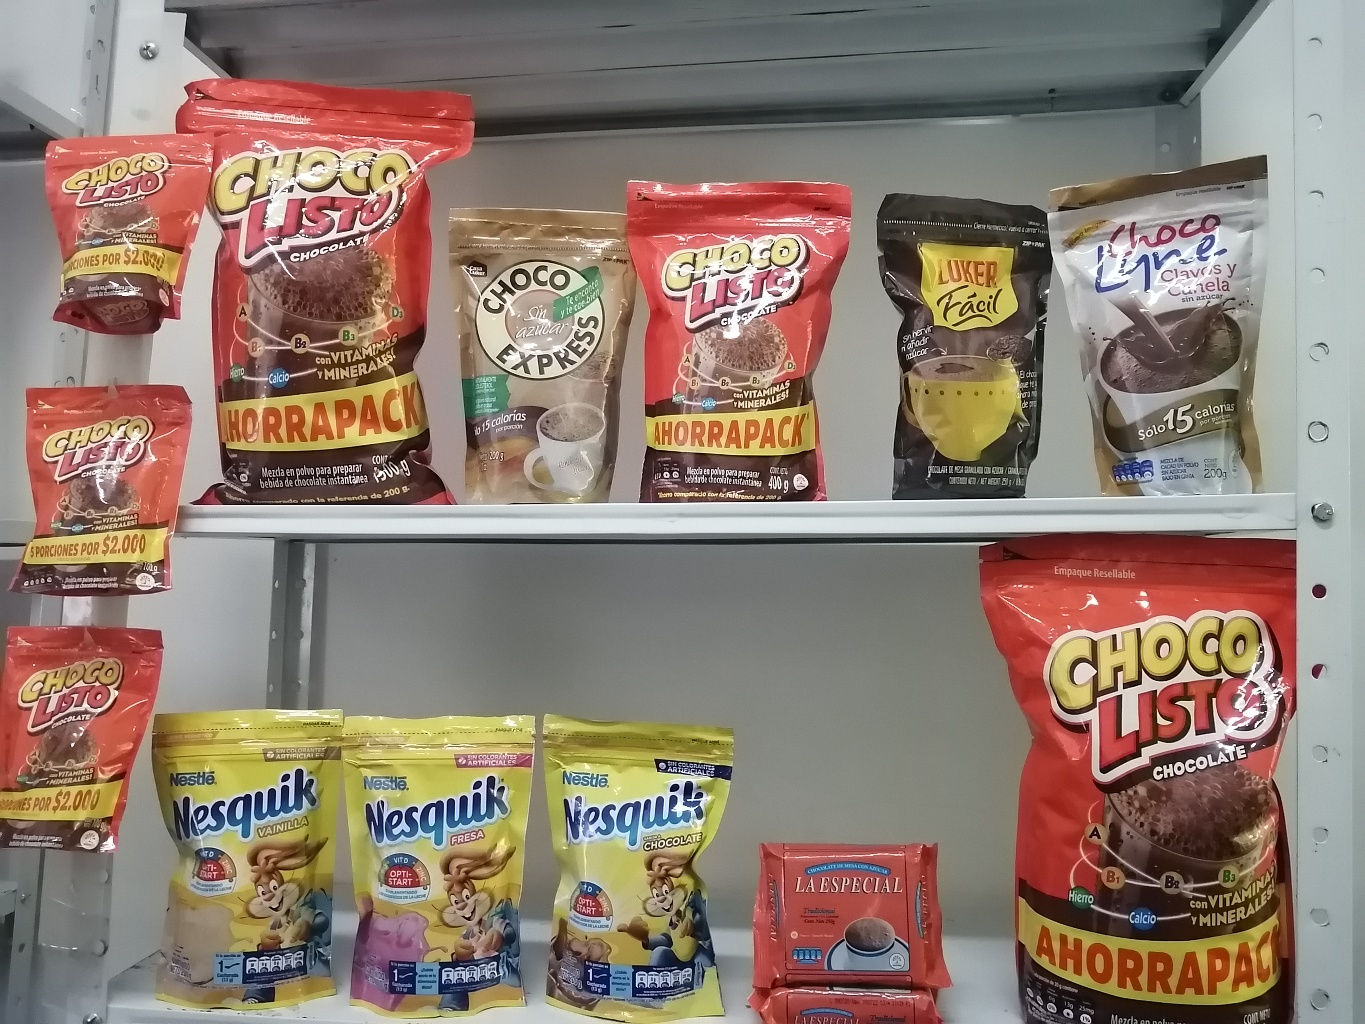COL0170103DYP1,500: (183, 65, 463, 504)
COL0170103DYP10000: (22, 124, 205, 323)
COL0170103DYP40000: (630, 170, 866, 499)
COL0170303DYP20000: (530, 703, 742, 1016)
COL0170305DYP20000: (336, 707, 536, 1015)
COL0170306DYP20000: (128, 685, 352, 1011)
